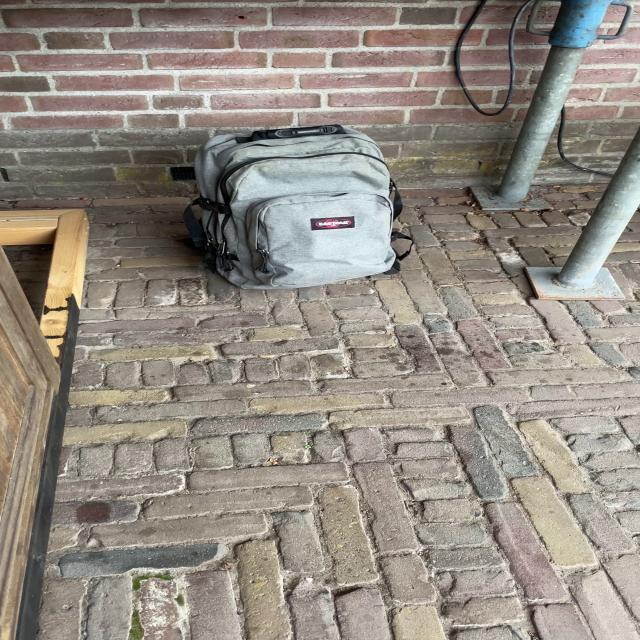backpack: (172, 116, 414, 294)
